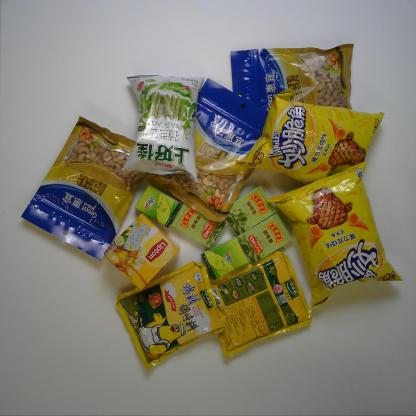Candy: (239, 214, 293, 262), (226, 187, 278, 235), (172, 202, 226, 245)
Dried Fruit: (18, 116, 146, 261), (155, 76, 267, 223), (228, 44, 356, 125)
Instant Drink: (103, 216, 177, 290)
Puffed Food: (267, 162, 401, 306), (238, 94, 387, 187), (123, 71, 208, 183)
Seasoner: (117, 262, 227, 368), (208, 252, 310, 358)
Tissue: (203, 234, 247, 278), (136, 185, 181, 227)
